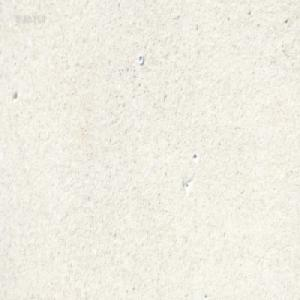Washer: (137, 54, 144, 64)
